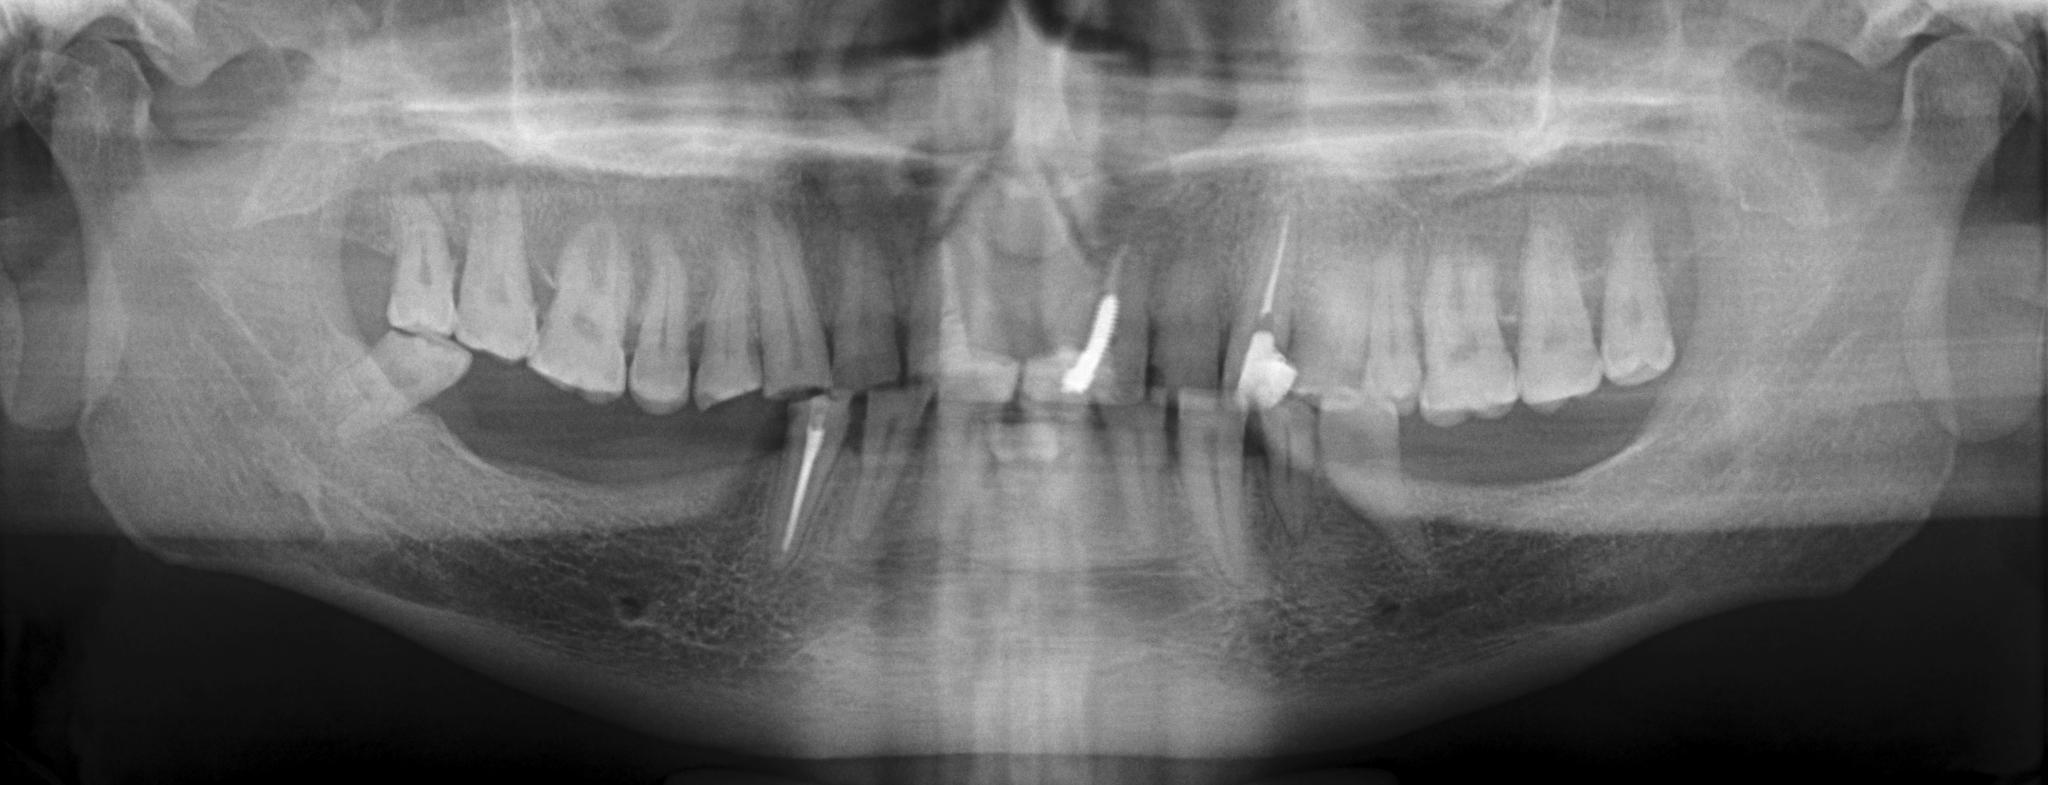Implant: (742, 383, 859, 566)
